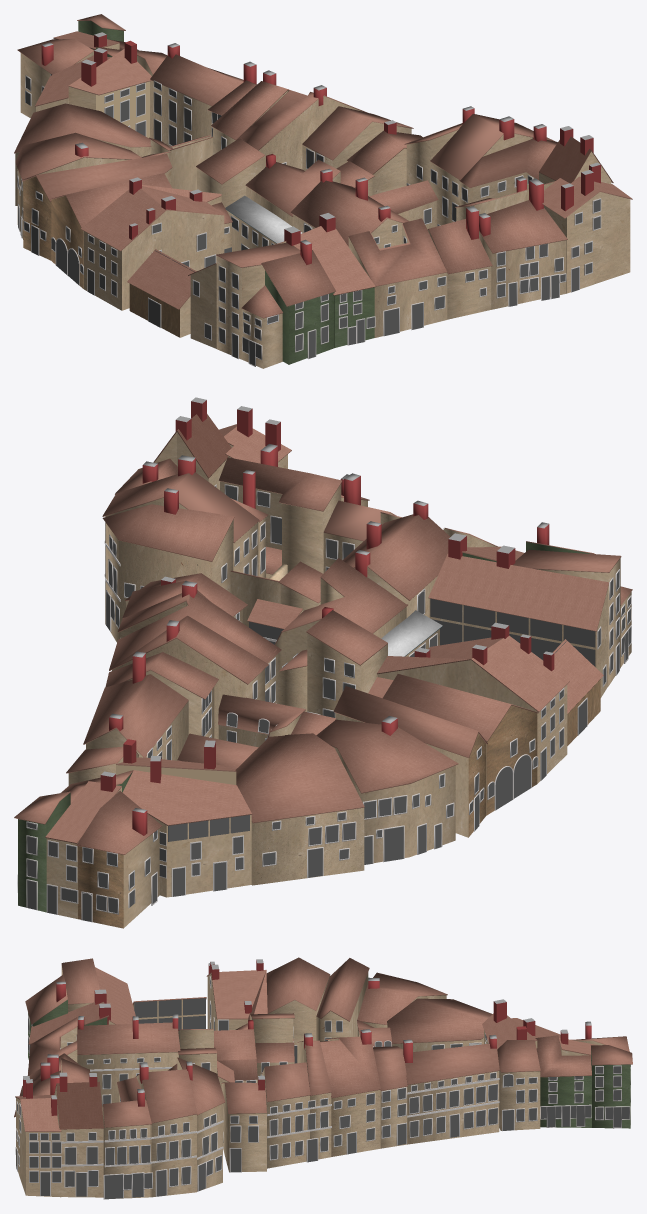
The model's file is ilot43combine.fbx.
3 views of the same model, one above another, from view 1: azimuth 30°, elevation 25°; view 2: azimuth 150°, elevation 25°; view 3: azimuth 270°, elevation 25° (orthographic). The views are drawn at different scales.
Visible parts, largest first — view 1: _ILOT43BAT1, _ILOT43BAT34, _ILOT43BAT35, _ILOT43BAT32, _ILOT43BAT9, _ILOT43BAT29, _ILOT43BAT10, _ILOT43BAT30, _ILOT43BAT16, _ILOT43BAT41, _ILOT43BAT25, _ILOT43BAT12 (+25 smaller); view 2: _ILOT43BAT17, _ILOT43BAT27, _ILOT43BAT8, _ILOT43BAT19, _ILOT43BAT9, _ILOT43BAT1, _ILOT43BAT5, _ILOT43BAT20, _ILOT43BAT13, _ILOT43BAT11, _ILOT43BAT10, _ILOT43BAT12 (+26 smaller); view 3: _ILOT43BAT9, _ILOT43BAT10, _ILOT43BAT41, _ILOT43BAT12, _ILOT43BAT45, _ILOT43BAT42, _ILOT43BAT3, _ILOT43BAT35, _ILOT43BAT26, _ILOT43BAT17, _ILOT43BAT4, _ILOT43BAT40 (+25 smaller).
Part boxes in pixels (x1,y1,x2,y2): _ILOT43BAT1: (81, 177, 224, 310); _ILOT43BAT34: (479, 178, 567, 309); _ILOT43BAT35: (542, 162, 632, 293); _ILOT43BAT32: (348, 218, 447, 337); _ILOT43BAT9: (211, 70, 366, 169); _ILOT43BAT29: (261, 239, 335, 364); _ILOT43BAT10: (150, 43, 256, 146); _ILOT43BAT30: (284, 213, 375, 347); _ILOT43BAT16: (22, 154, 172, 260); _ILOT43BAT41: (430, 114, 555, 226); _ILOT43BAT25: (68, 40, 151, 137); _ILOT43BAT12: (290, 169, 408, 248); _ILOT43BAT17: (235, 733, 364, 885); _ILOT43BAT27: (428, 554, 609, 697); _ILOT43BAT8: (316, 716, 458, 864); _ILOT43BAT19: (122, 755, 251, 897); _ILOT43BAT9: (109, 581, 281, 739); _ILOT43BAT1: (377, 622, 570, 783); _ILOT43BAT5: (102, 488, 234, 642); _ILOT43BAT20: (76, 791, 161, 928); _ILOT43BAT13: (382, 674, 538, 815); _ILOT43BAT11: (219, 457, 342, 573); _ILOT43BAT10: (83, 651, 188, 760); _ILOT43BAT12: (342, 500, 450, 617); _ILOT43BAT9: (297, 1029, 406, 1159); _ILOT43BAT10: (403, 1035, 499, 1144); _ILOT43BAT41: (135, 1062, 197, 1197); _ILOT43BAT12: (76, 1014, 180, 1106); _ILOT43BAT45: (54, 1072, 103, 1197); _ILOT43BAT42: (102, 1077, 152, 1199); _ILOT43BAT3: (262, 1062, 331, 1168); _ILOT43BAT35: (15, 1076, 61, 1197); _ILOT43BAT26: (535, 1035, 591, 1127); _ILOT43BAT17: (387, 998, 492, 1051); _ILOT43BAT4: (221, 1075, 266, 1172); _ILOT43BAT40: (497, 1040, 540, 1131).
Bounding box in the file's own units: 11.57 × 3.79 × 16.52.
